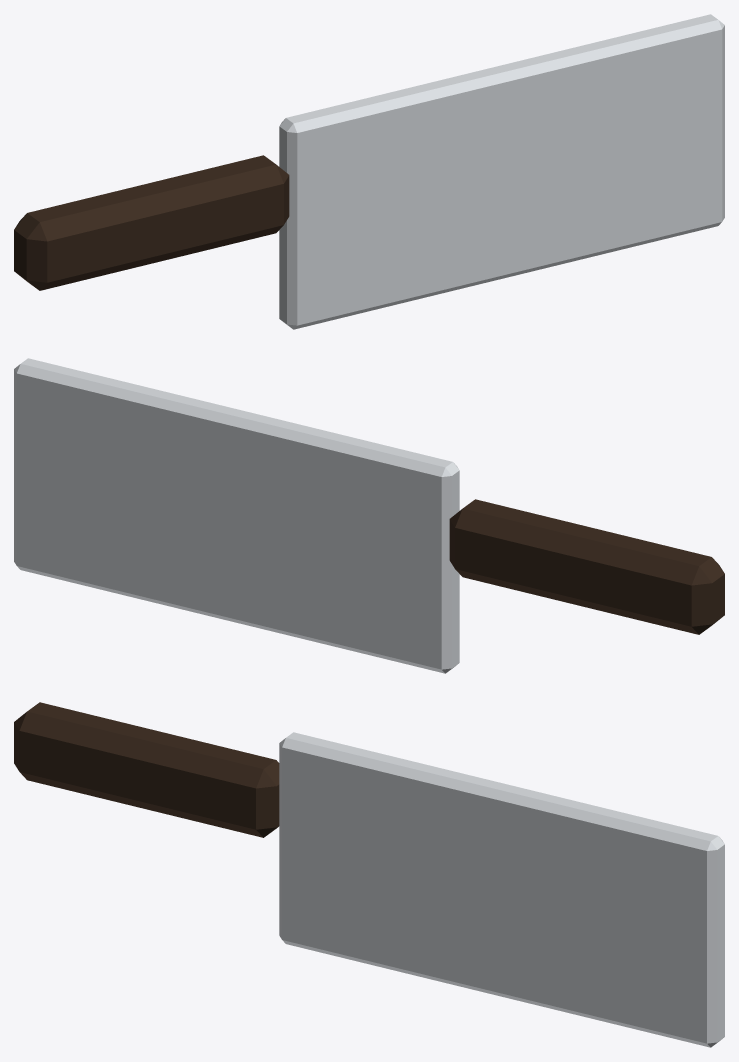
The model's file is knife.glb.
3 views of the same model, one above another, from view 1: azimuth 30°, elevation 25°; view 2: azimuth 150°, elevation 25°; view 3: azimuth 330°, elevation 25° (orthographic).
Visible parts, largest first — view 1: knife; view 2: knife; view 3: knife.
Boxes of the visible parts, x1=… form: knife: x1=14, y1=14, x2=724, y2=329; knife: x1=14, y1=358, x2=724, y2=673; knife: x1=14, y1=702, x2=724, y2=1047.
Size of the model in its own units: 0.32 by 0.09 by 0.022.
